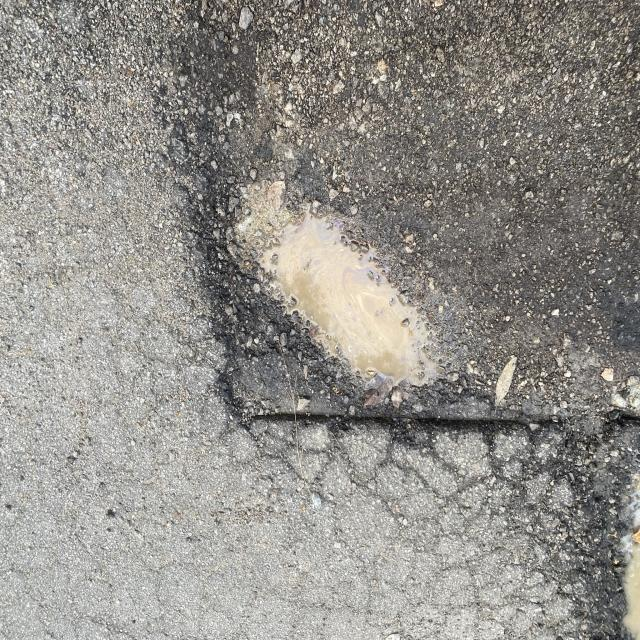pothole: (141, 181, 639, 532)
